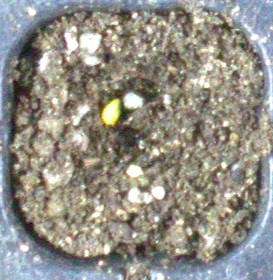chilli seed: (101, 99, 120, 125)
